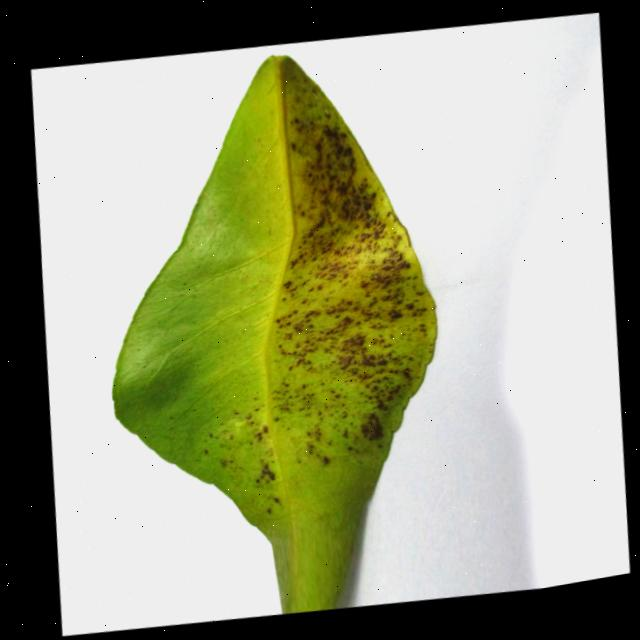melanose: (112, 56, 435, 613)
